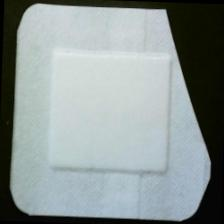Cut: (8, 1, 223, 224)
